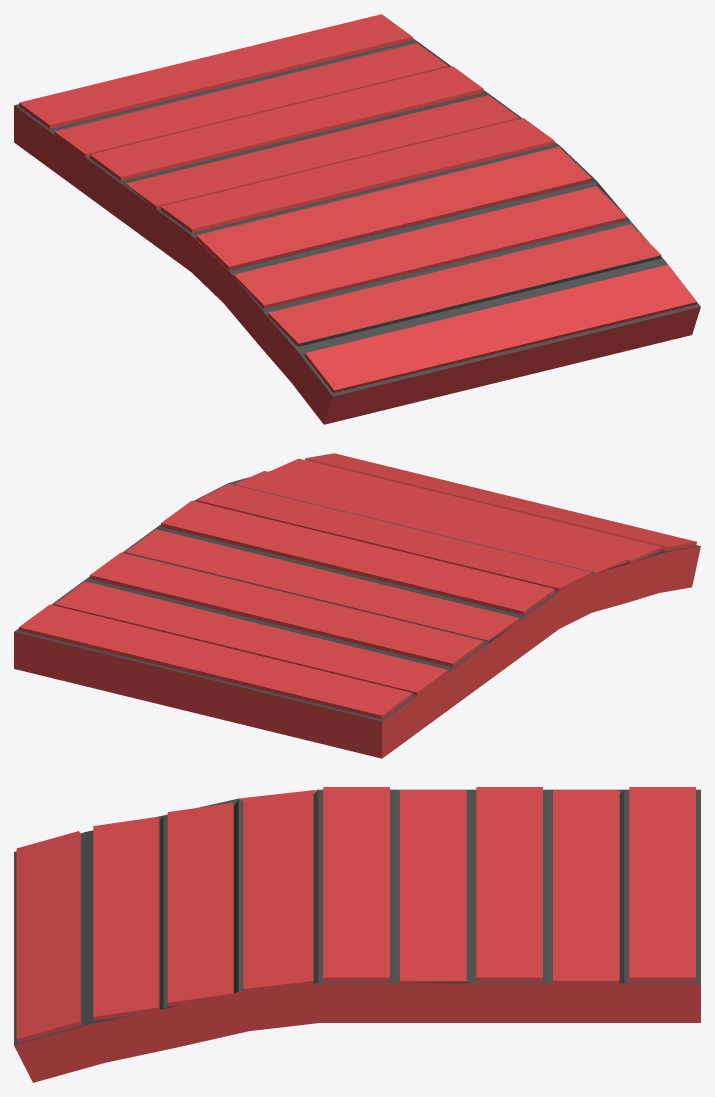
File: bridge 3.fbx
3 renders of one model, top to bottom at view 1: azimuth 30°, elevation 25°; view 2: azimuth 150°, elevation 25°; view 3: azimuth 270°, elevation 25°, orthographic. The views are drawn at different scales.
Parts seen in each view (by area): view 1: Cube.001; view 2: Cube.001; view 3: Cube.001.
Boxes of the visible parts, x1=… form: Cube.001: x1=14, y1=14, x2=700, y2=424; Cube.001: x1=14, y1=453, x2=700, y2=758; Cube.001: x1=14, y1=787, x2=700, y2=1082.
Size of the model in its own units: 2 by 0.5 by 3.
